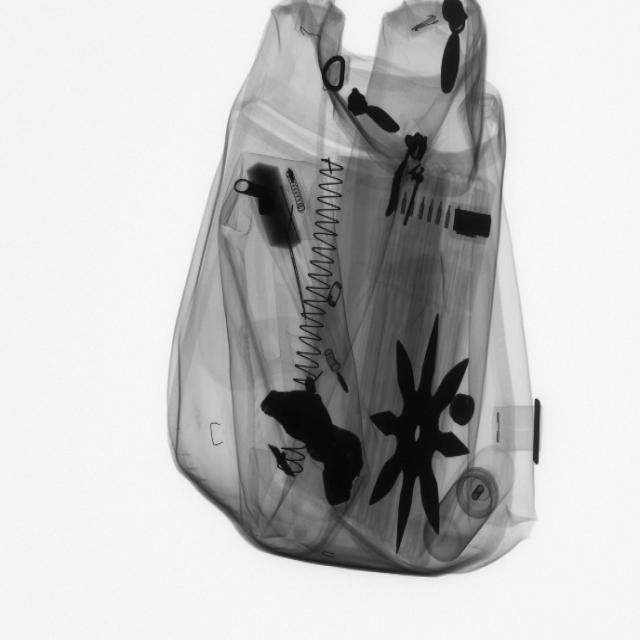SHURIKEN: (365, 313, 471, 555)
